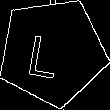L_N: (33, 24, 72, 80)
